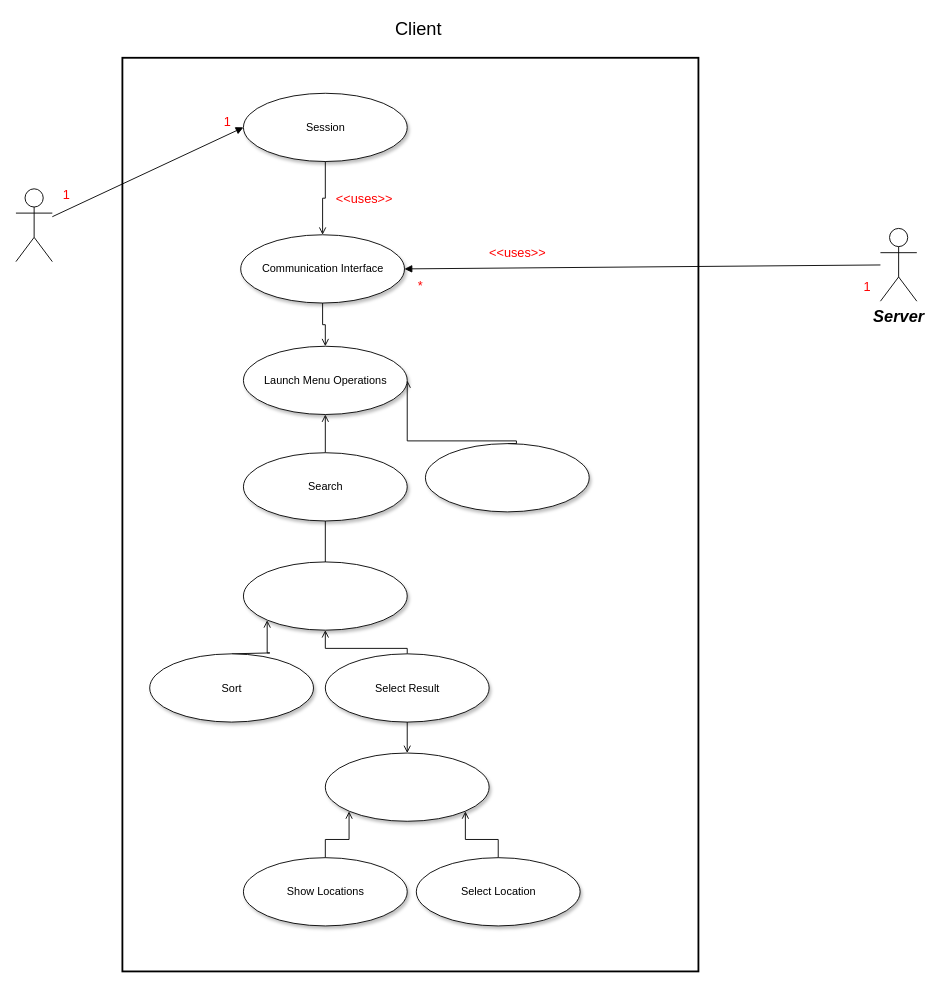
Image size: 940x987. Some labels were removed from this diagram. The centre of each missing label's shape, as x and y in pixels:
Options: pixel 508 478
Result Menu Options: pixel 408 788
Results Menu Operations: pixel 326 597
User: pixel 33 225
